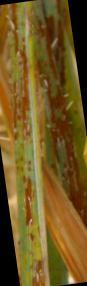Wheat: (45, 18, 73, 156), (7, 22, 31, 141), (18, 170, 38, 226), (63, 163, 85, 184), (29, 259, 45, 283)
